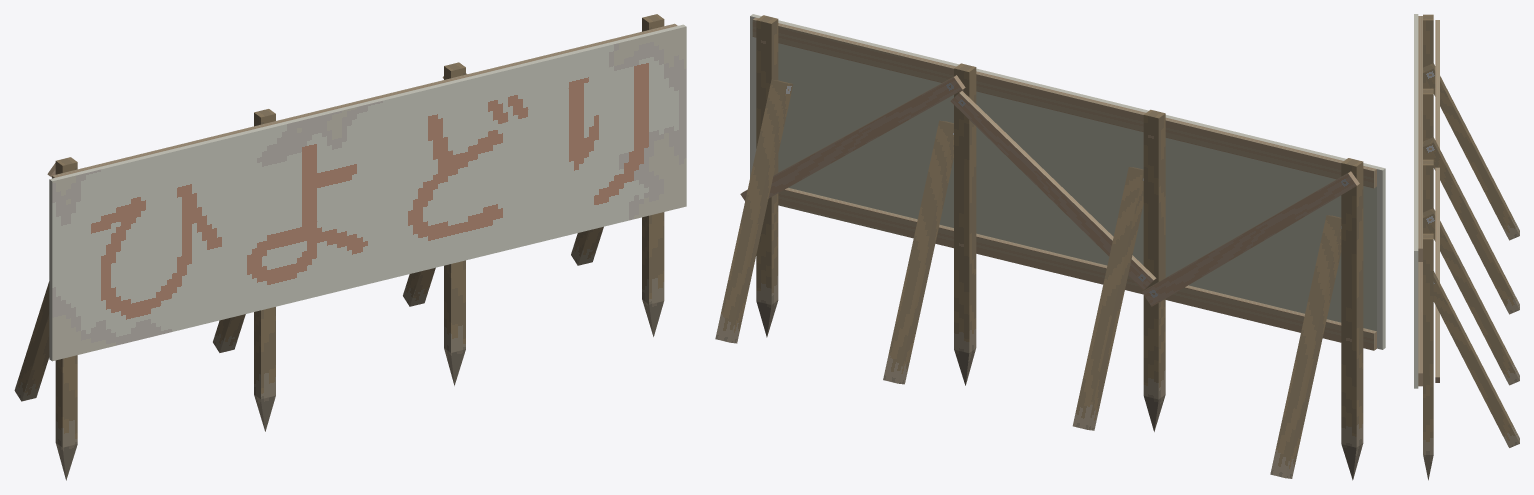
Rendered from 044e_Bulbul_Sign.glb.
The picture shows the model from 3 angles, left to right: view 1: azimuth 30°, elevation 25°; view 2: azimuth 150°, elevation 25°; view 3: azimuth 270°, elevation 25°; orthographic projection. The views are drawn at different scales.
Parts seen in each view (by area): view 1: part_0; view 2: part_0; view 3: part_0.
Part boxes in pixels (left/top/right/bottom): part_0: left=14, top=14, right=686, bottom=480; part_0: left=715, top=14, right=1385, bottom=480; part_0: left=1414, top=14, right=1519, bottom=480.
Size of the model in its own units: 8.17 by 3.93 by 1.54.
1 material, 1 textured.
